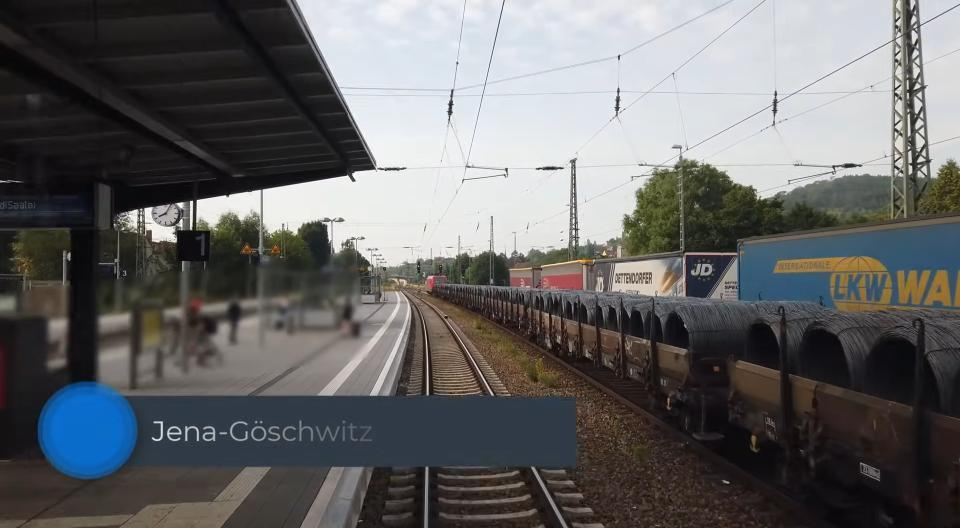Plant: (518, 357, 558, 388)
